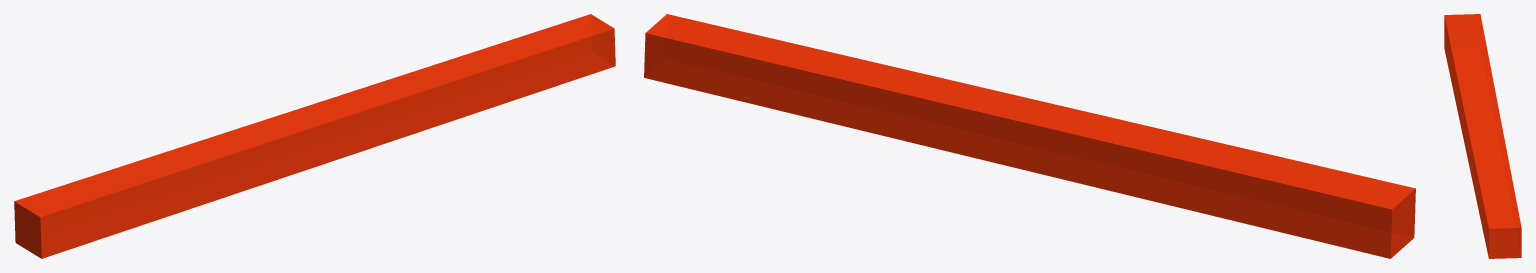
File: Event_421127236_EErechit_19.fbx
The picture shows the model from 3 angles, left to right: view 1: azimuth 30°, elevation 25°; view 2: azimuth 150°, elevation 25°; view 3: azimuth 270°, elevation 25°; orthographic projection. The views are drawn at different scales.
Visible parts, largest first — view 1: Model; view 2: Model; view 3: Model.
Part boxes in pixels (box(x1,y1,x2,y2)): Model: box(14, 14, 615, 258); Model: box(644, 14, 1415, 258); Model: box(1444, 14, 1521, 258).
Size of the model in its own units: 1.21 by 0.1201 by 0.1709.
